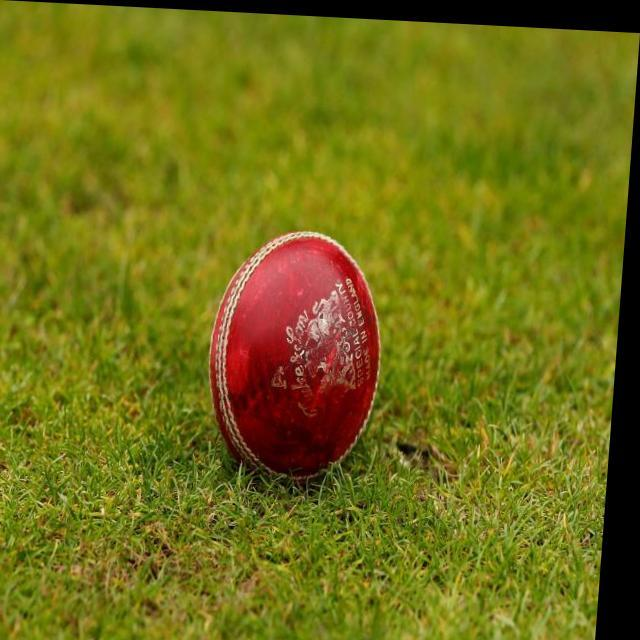cricket ball: (215, 228, 387, 478)
